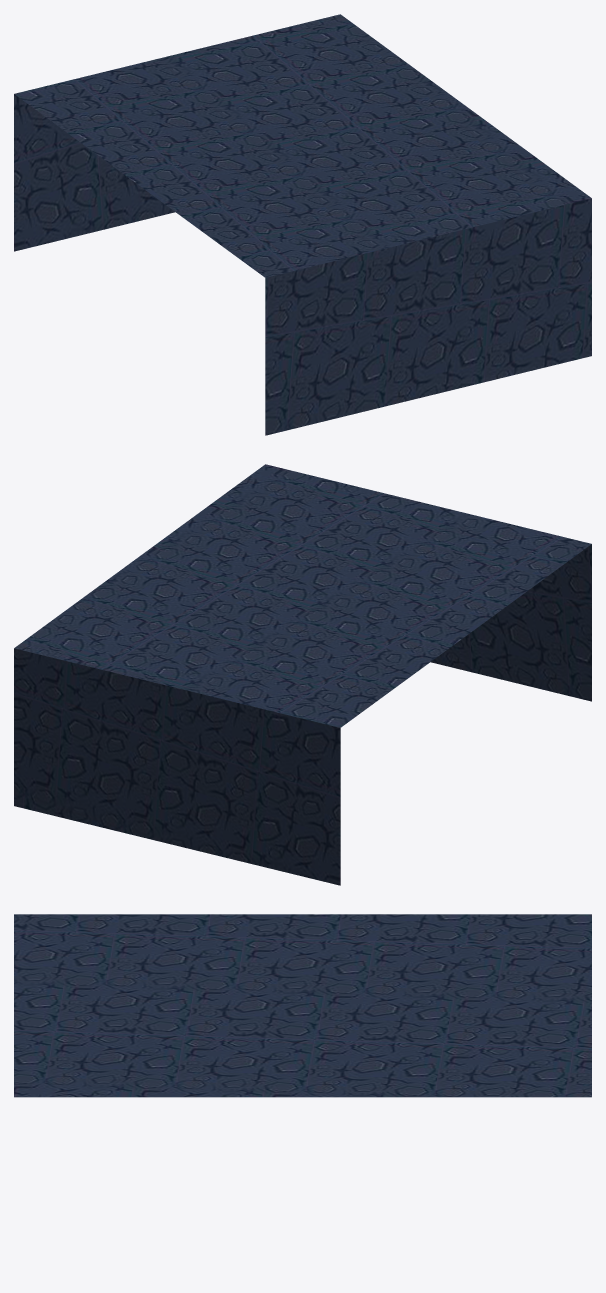
3 renders of one model, top to bottom at view 1: azimuth 30°, elevation 25°; view 2: azimuth 150°, elevation 25°; view 3: azimuth 270°, elevation 25°, orthographic. The views are drawn at different scales.
Parts seen in each view (by area): view 1: plataforma5; view 2: plataforma5; view 3: plataforma5.
Boxes of the visible parts, x1=… form: plataforma5: x1=14, y1=14, x2=591, y2=435; plataforma5: x1=14, y1=464, x2=591, y2=885; plataforma5: x1=14, y1=914, x2=591, y2=1097.
Size of the model in its own units: 17.24 by 7.96 by 23.
1 material, 1 textured.
